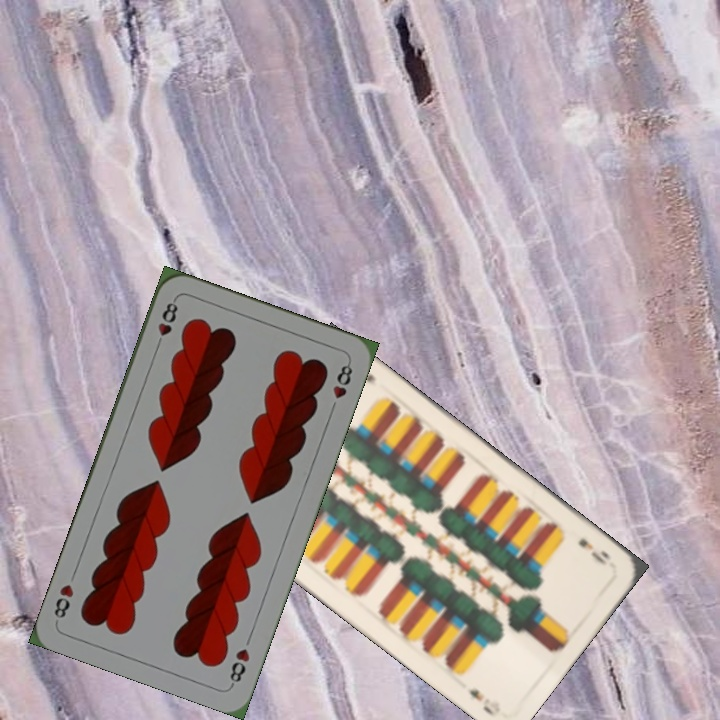E9: (574, 534, 612, 568)
H8: (151, 296, 181, 353), (225, 644, 253, 688)
